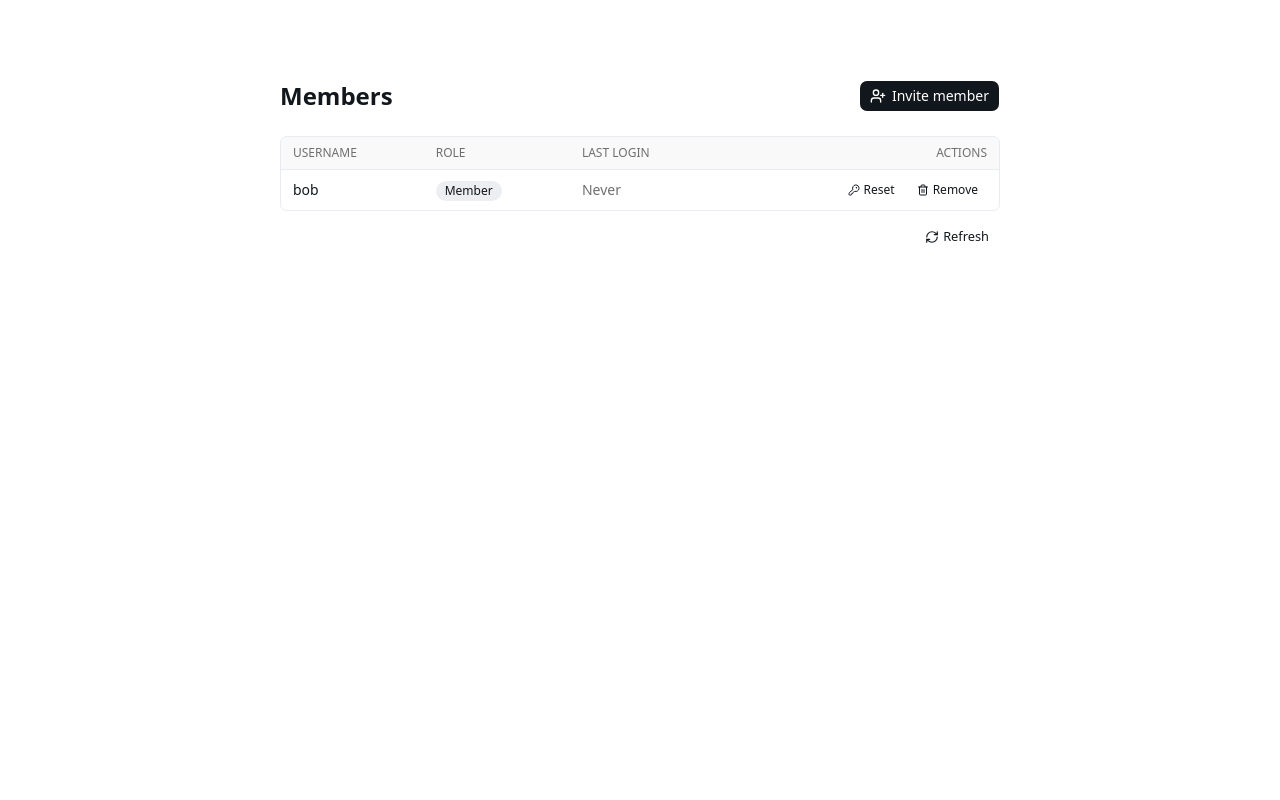
Test case: MembersPage actions › resets a user's password and shows the new password once
Click the button "Reset" at x=871, y=190, box left=839, top=178, right=904, bottom=202
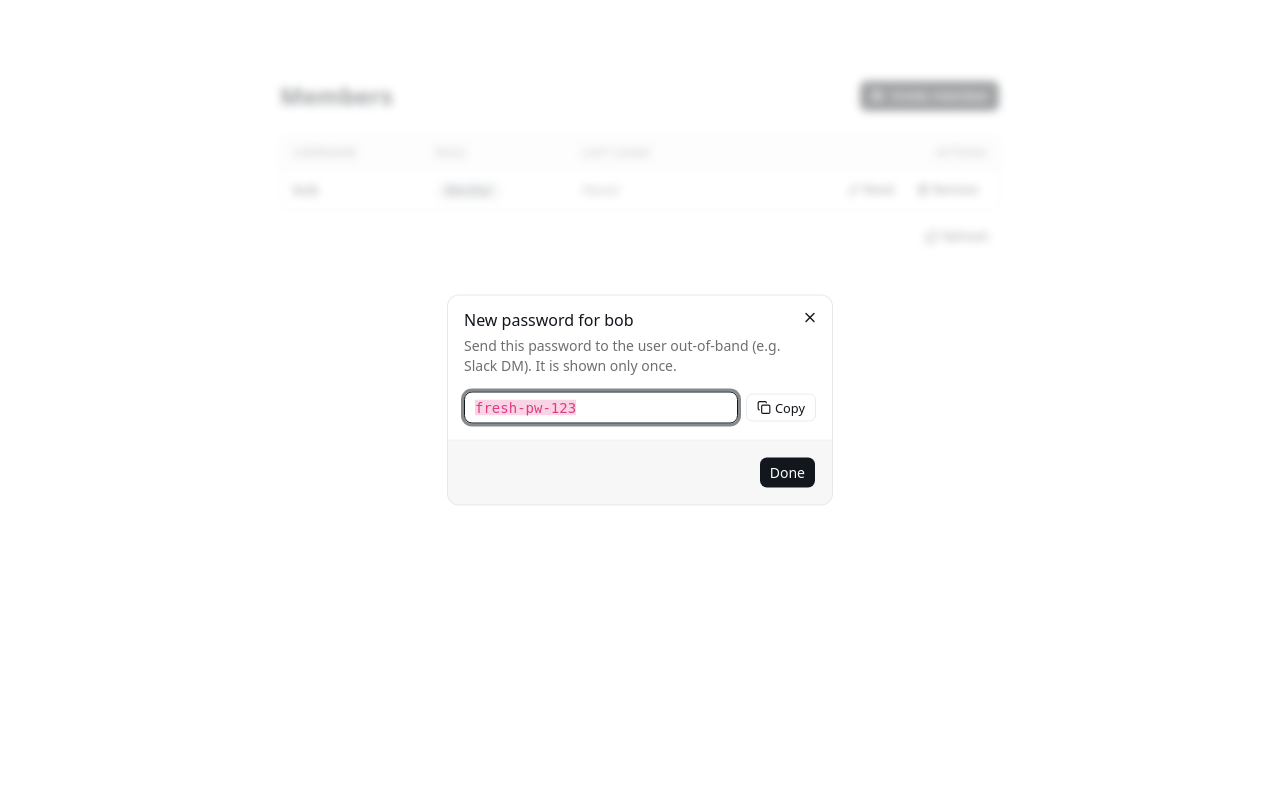
Result: the field showing "fresh-pw-123" is shown at left=464, top=392, right=738, bottom=424
